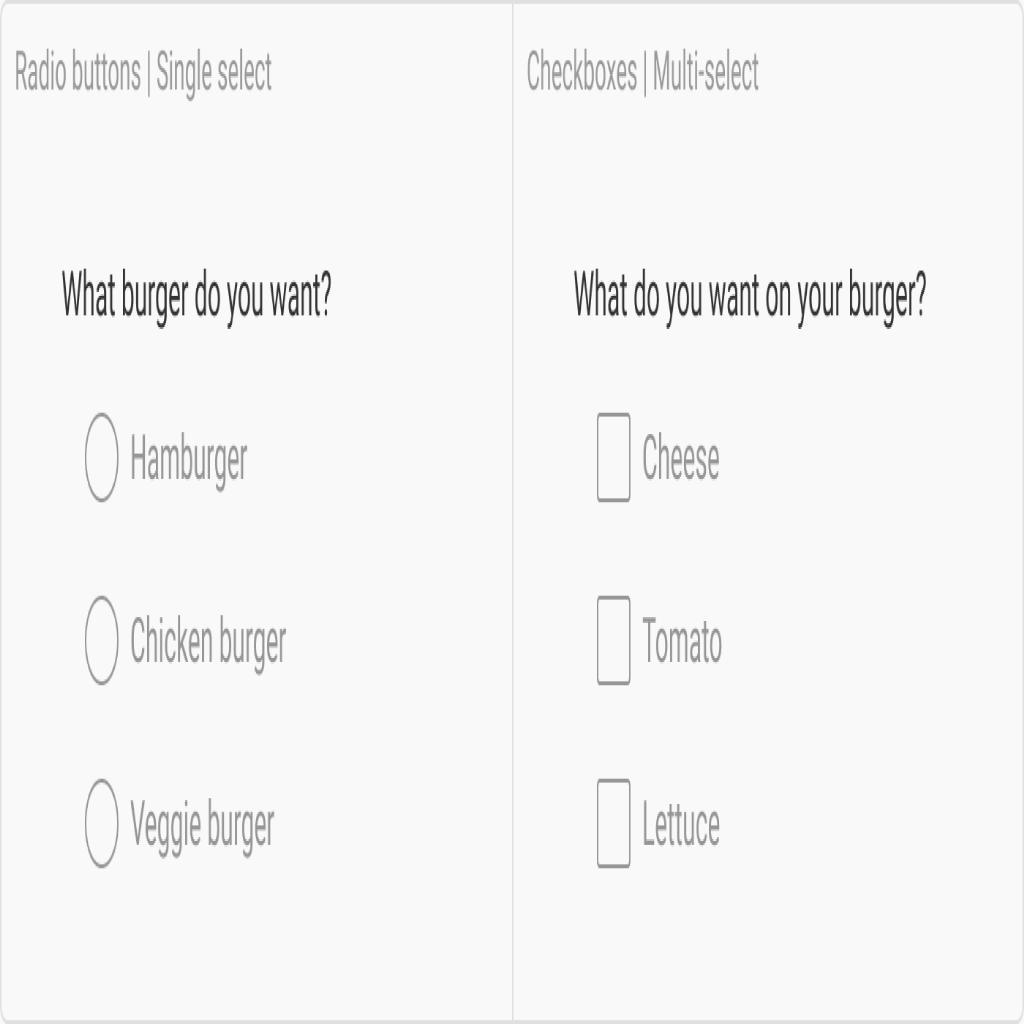checkbox: (592, 591, 637, 692), (594, 773, 636, 873), (594, 409, 635, 509)
radio: (84, 407, 126, 509), (83, 774, 124, 877), (84, 596, 122, 696)
